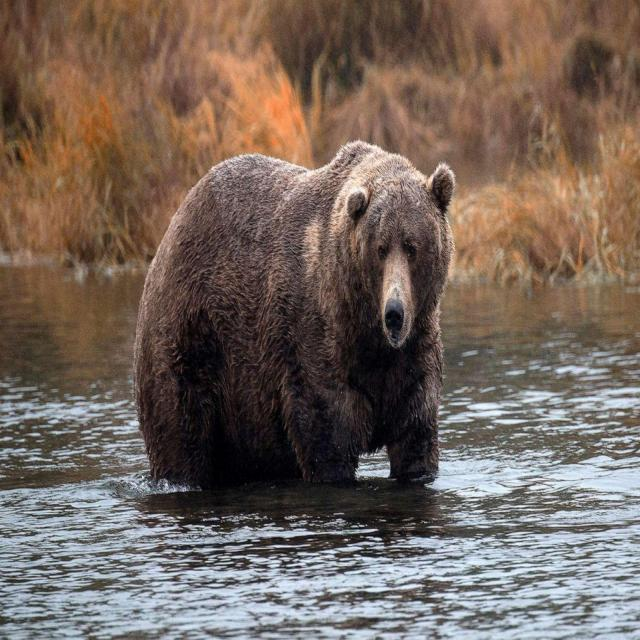Bear: (133, 141, 456, 492)
